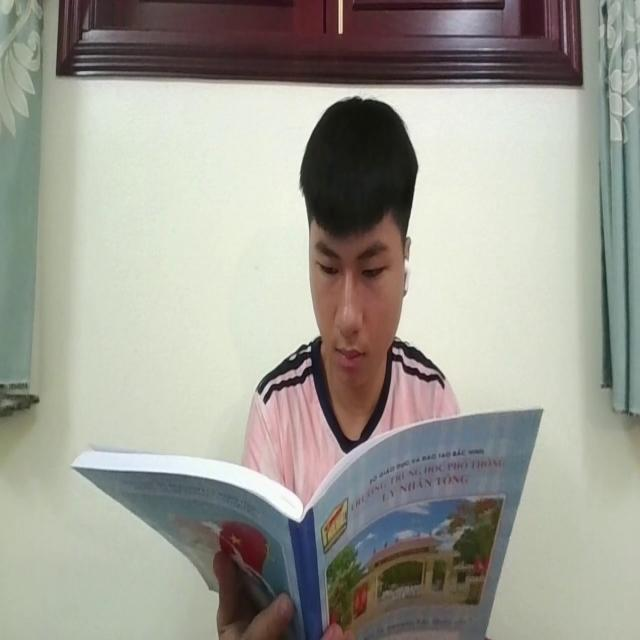book: (72, 408, 544, 640)
student: (239, 99, 466, 469)
